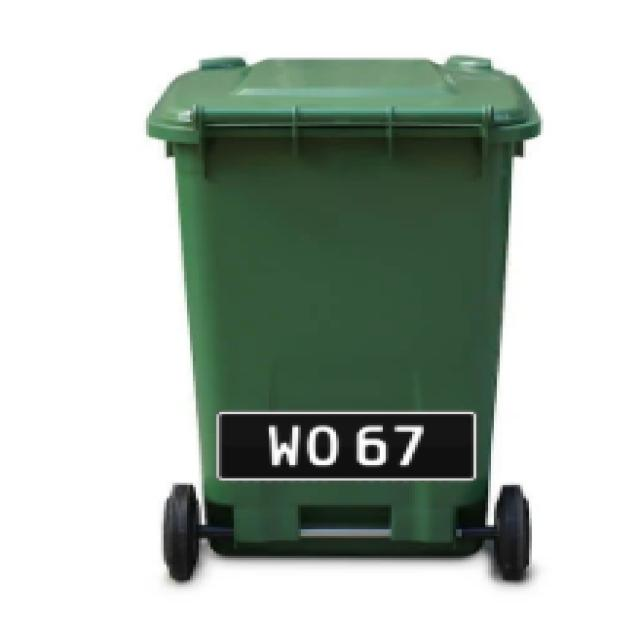bin_plate: (218, 412, 478, 482)
